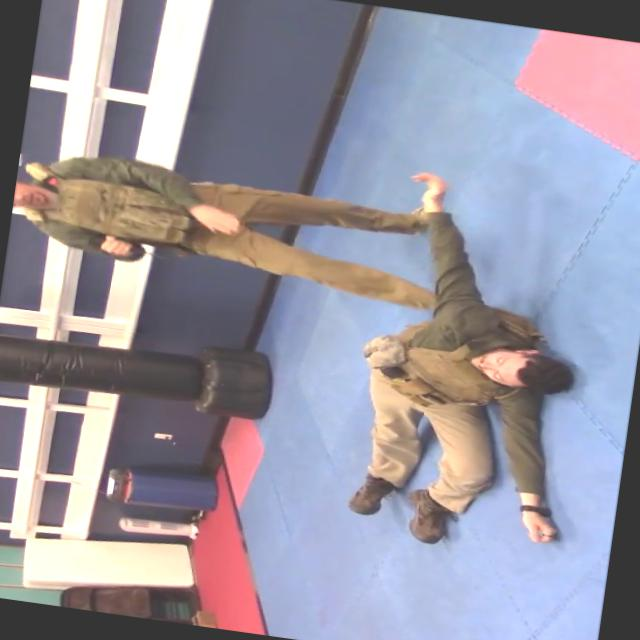knife: (81, 233, 172, 263)
